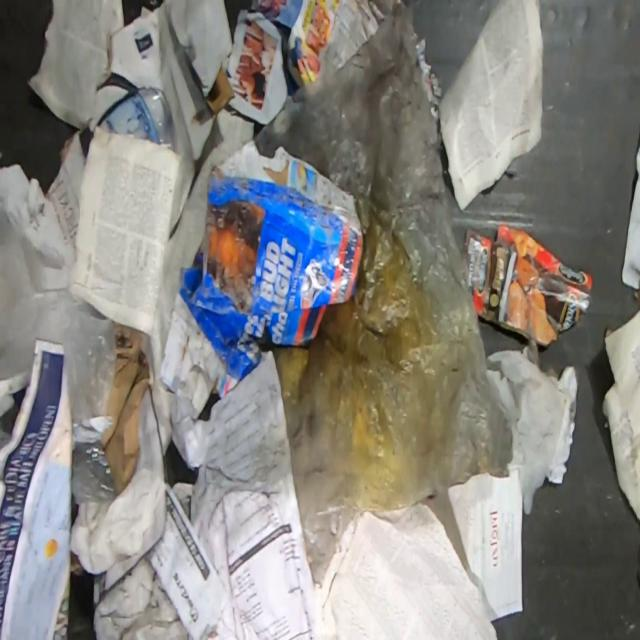cardboard: (158, 139, 363, 399), (44, 0, 236, 251), (464, 220, 594, 346)
soft_plastic: (252, 0, 514, 590), (0, 212, 117, 420), (70, 444, 115, 504)
